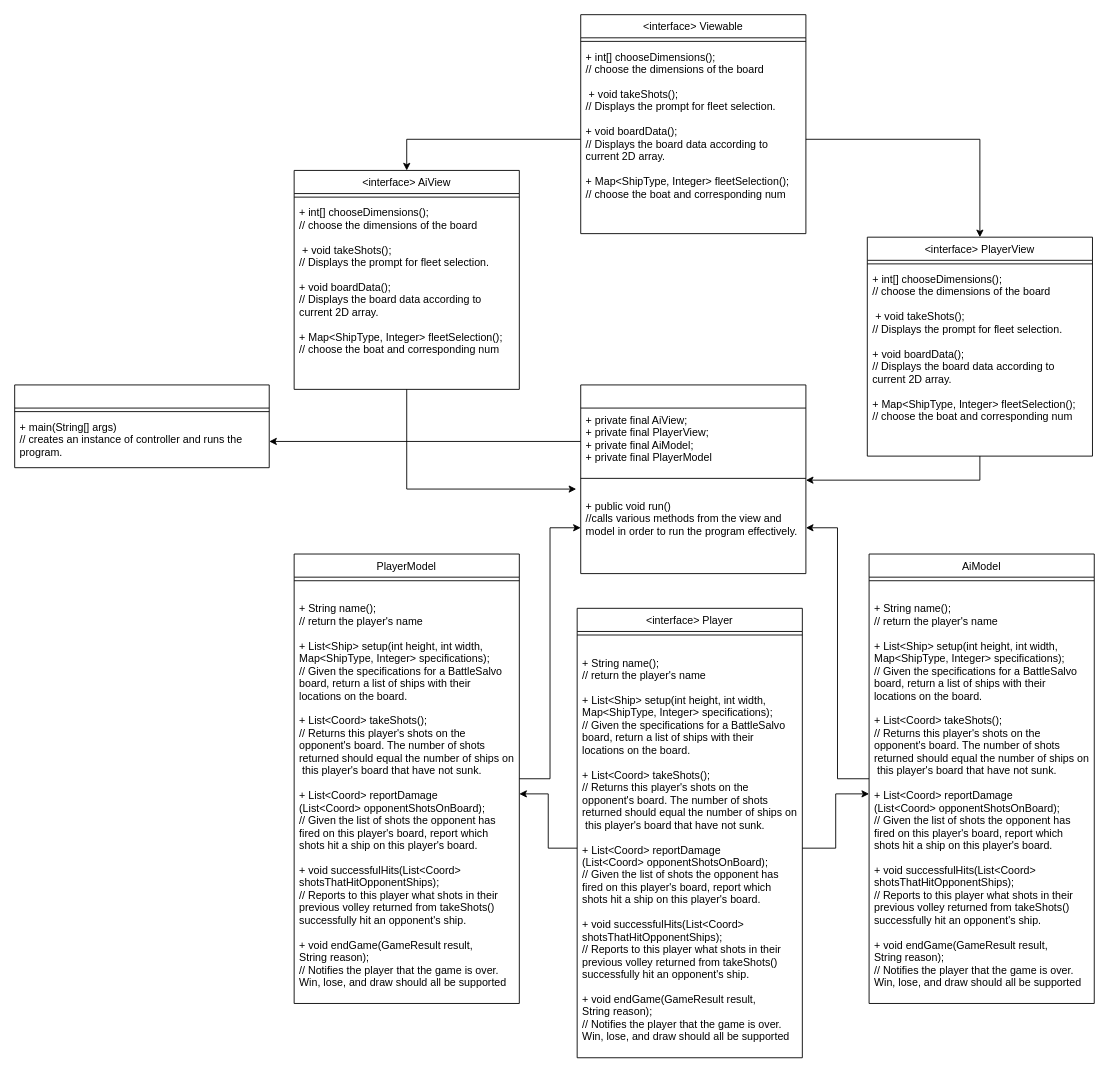
Some shapes in this 1109 by 1072 pixel diagram are drawn without their labels. The box of each missing label's shape, as (x1, y1, x2, y2) in pixels:
Controller: (580, 384, 806, 574)
Driver: (14, 384, 269, 468)
